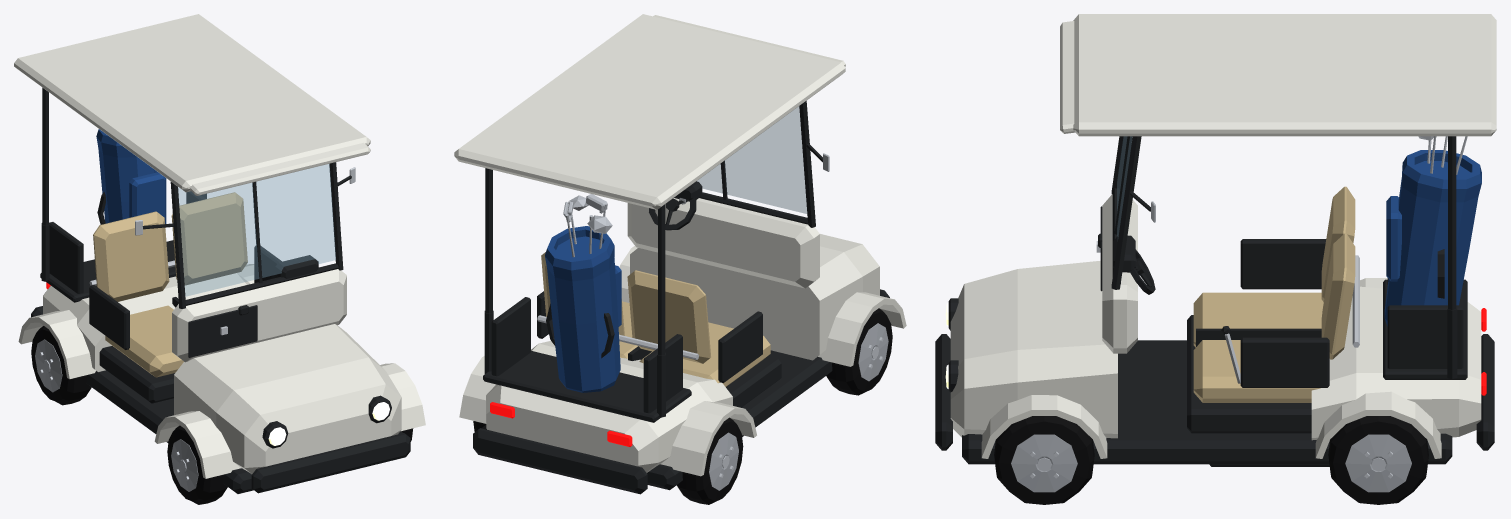
The model's file is golf_cart.glb.
The picture shows the model from 3 angles, left to right: view 1: azimuth 30°, elevation 25°; view 2: azimuth 150°, elevation 25°; view 3: azimuth 270°, elevation 25°; orthographic projection. The views are drawn at different scales.
Visible parts, largest first — view 1: golf_cart_mesh; view 2: golf_cart_mesh; view 3: golf_cart_mesh.
Part boxes in pixels (x1=…): golf_cart_mesh: x1=14, y1=14, x2=425, y2=504; golf_cart_mesh: x1=454, y1=14, x2=906, y2=504; golf_cart_mesh: x1=935, y1=14, x2=1496, y2=504.
Bounding box in the file's own units: 1.4 × 1.87 × 2.52.
